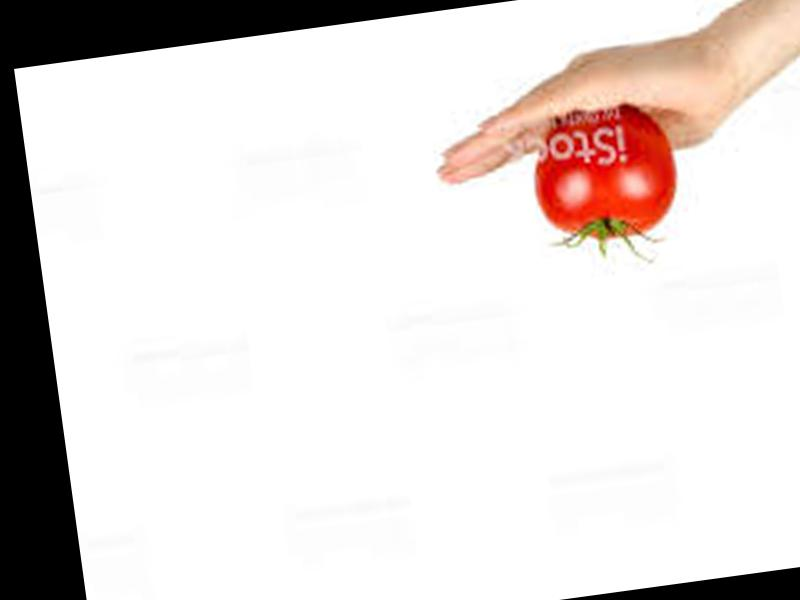Tomato: (528, 101, 684, 250)
